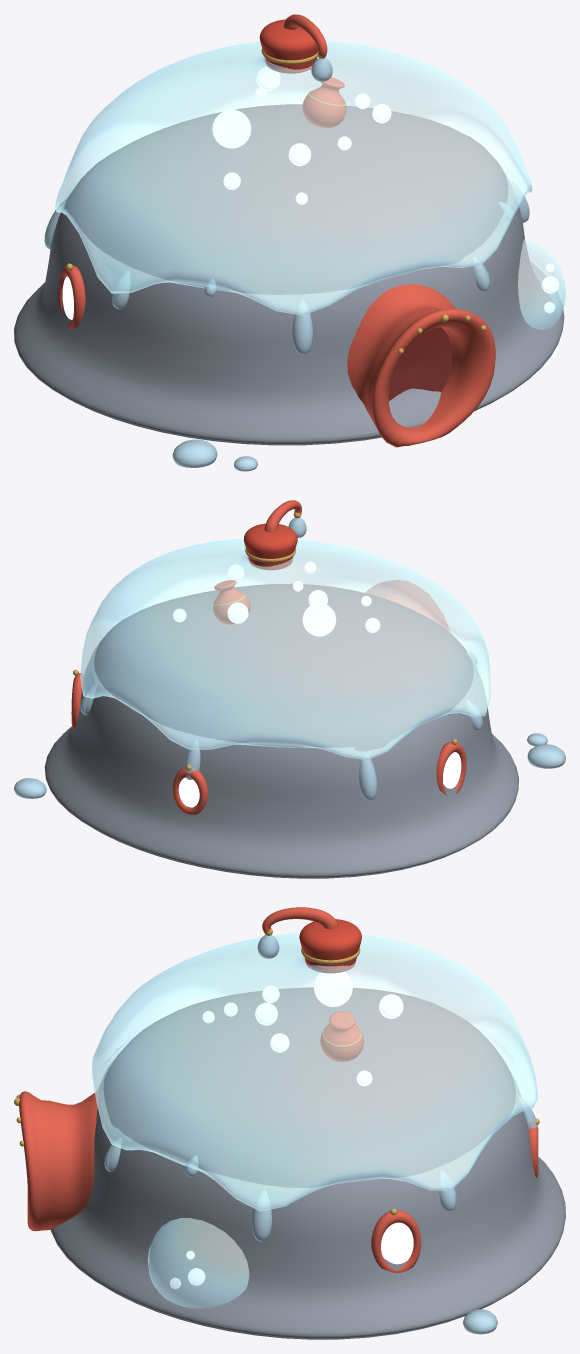
Rendered from house_02_0209.fbx.
The picture shows the model from 3 angles, top to bottom: view 1: azimuth 30°, elevation 25°; view 2: azimuth 150°, elevation 25°; view 3: azimuth 270°, elevation 25°; orthographic projection. The views are drawn at different scales.
Parts seen in each view (by area): view 1: House02_Body_Base, House02_Dome_JellyClear, House02_Entrance_Tunnel, House02_Blister_JellyClear, House02_Entrance_Shadow, House02_Top_Plug, House02_Float_Pot, House02_Float_Lamp, House02_Puddle_1, House02_WindowLip_L, House02_Drip_6, House02_Top_Sprout; view 2: House02_Body_Base, House02_Dome_JellyClear, House02_Top_Plug, House02_Entrance_Tunnel, House02_Float_Lamp, House02_WindowLip_Back, House02_Float_Pot, House02_Puddle_1, House02_WindowLip_L, House02_Drip_4, House02_Puddle_3, House02_Top_Sprout (+3 smaller); view 3: House02_Body_Base, House02_Dome_JellyClear, House02_Entrance_Tunnel, House02_Blister_JellyClear, House02_Top_Plug, House02_Float_Pot, House02_WindowLip_R, House02_Window_R, House02_Float_Lamp, House02_Top_Sprout, House02_Drip_1, House02_Puddle_3 (+1 smaller).
Boxes of the visible parts, x1=… form: House02_Body_Base: x1=14, y1=104, x2=564, y2=445; House02_Dome_JellyClear: x1=55, y1=40, x2=532, y2=315; House02_Entrance_Tunnel: x1=347, y1=284, x2=495, y2=447; House02_Blister_JellyClear: x1=518, y1=239, x2=565, y2=329; House02_Entrance_Shadow: x1=388, y1=327, x2=452, y2=401; House02_Top_Plug: x1=259, y1=19, x2=319, y2=73; House02_Float_Pot: x1=302, y1=77, x2=346, y2=127; House02_Float_Lamp: x1=212, y1=109, x2=251, y2=148; House02_Puddle_1: x1=172, y1=439, x2=217, y2=467; House02_WindowLip_L: x1=58, y1=265, x2=85, y2=329; House02_Drip_6: x1=292, y1=300, x2=313, y2=354; House02_Top_Sprout: x1=283, y1=14, x2=327, y2=56; House02_Body_Base: x1=44, y1=583, x2=518, y2=878; House02_Dome_JellyClear: x1=80, y1=538, x2=490, y2=760; House02_Top_Plug: x1=244, y1=523, x2=297, y2=570; House02_Entrance_Tunnel: x1=365, y1=580, x2=449, y2=631; House02_Float_Lamp: x1=302, y1=603, x2=336, y2=636; House02_WindowLip_Back: x1=172, y1=767, x2=207, y2=814; House02_Float_Pot: x1=213, y1=580, x2=250, y2=624; House02_Puddle_1: x1=527, y1=744, x2=565, y2=768; House02_WindowLip_L: x1=436, y1=742, x2=466, y2=795; House02_Drip_4: x1=359, y1=751, x2=377, y2=800; House02_Puddle_3: x1=14, y1=778, x2=46, y2=798; House02_Top_Sprout: x1=264, y1=500, x2=301, y2=532; House02_Body_Base: x1=50, y1=987, x2=565, y2=1339; House02_Dome_JellyClear: x1=91, y1=933, x2=537, y2=1211; House02_Entrance_Tunnel: x1=19, y1=1091, x2=98, y2=1231; House02_Blister_JellyClear: x1=147, y1=1218, x2=249, y2=1308; House02_Top_Plug: x1=299, y1=919, x2=361, y2=973; House02_Float_Pot: x1=320, y1=1011, x2=364, y2=1062; House02_WindowLip_R: x1=371, y1=1210, x2=421, y2=1272; House02_Window_R: x1=381, y1=1222, x2=413, y2=1264; House02_Float_Lamp: x1=314, y1=971, x2=352, y2=1006; House02_Top_Sprout: x1=262, y1=907, x2=337, y2=932; House02_Drip_1: x1=252, y1=1190, x2=271, y2=1241; House02_Puddle_3: x1=462, y1=1309, x2=497, y2=1334.
Size of the model in its own units: 6.3 by 3.96 by 6.2.
